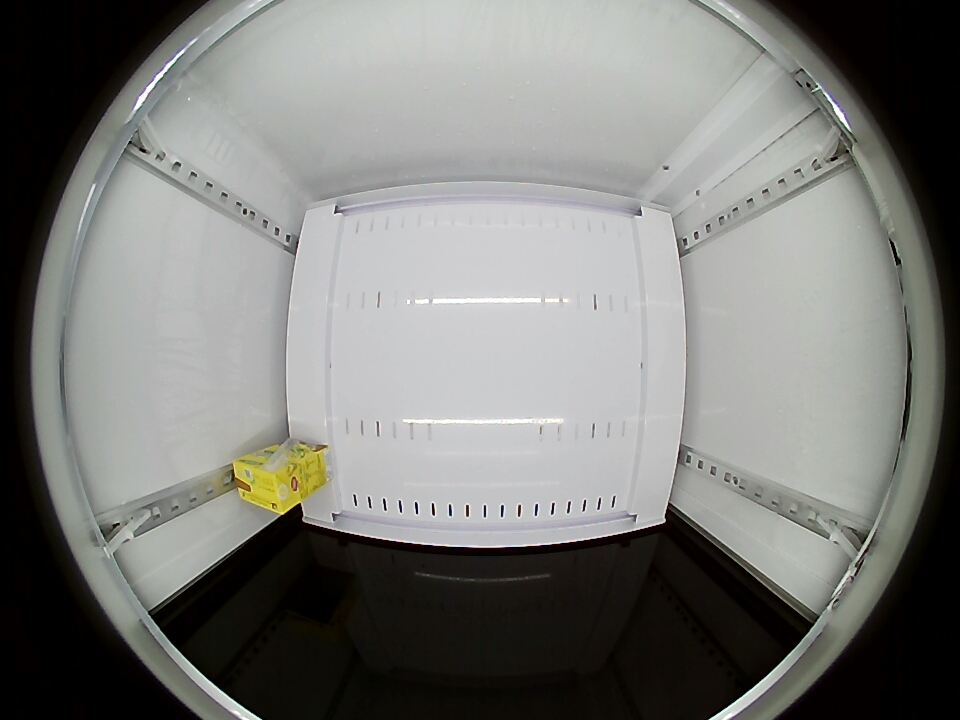weitaningmeng: (231, 453, 300, 514)
